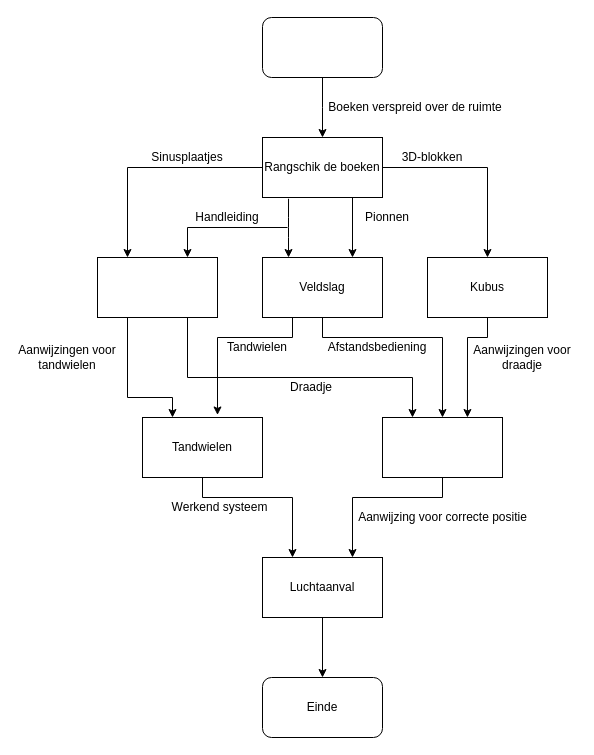
Image size: 594x755. Some labels were removed from this diagram. The shapes that lost their labels are listed below. From the top down, each one's centre as x and y in pixels, then its label:
At (x=322, y=47): "Start".
At (x=157, y=287): "Sinusgolf".
At (x=442, y=447): "Kraak de code".
